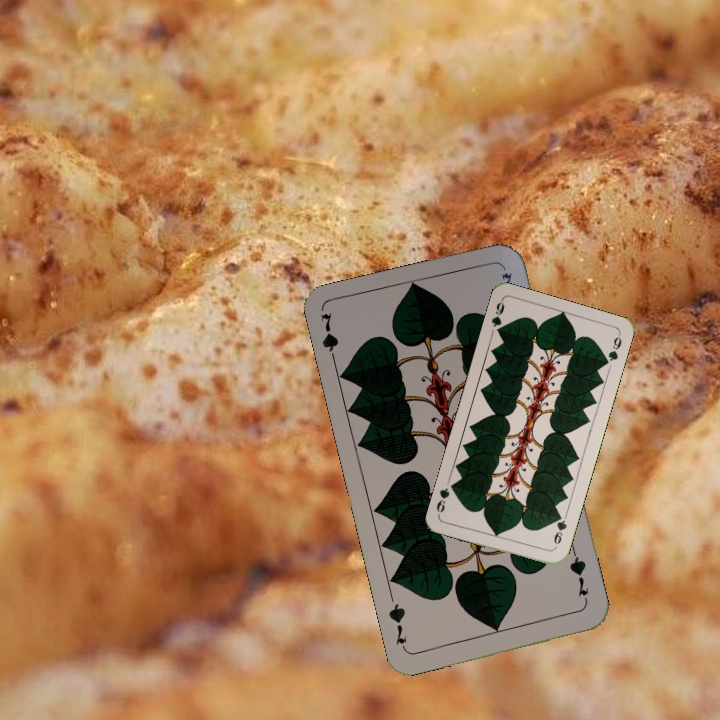G7: (565, 548, 592, 607), (316, 309, 341, 369)
G9: (487, 296, 507, 338), (550, 510, 569, 551)
